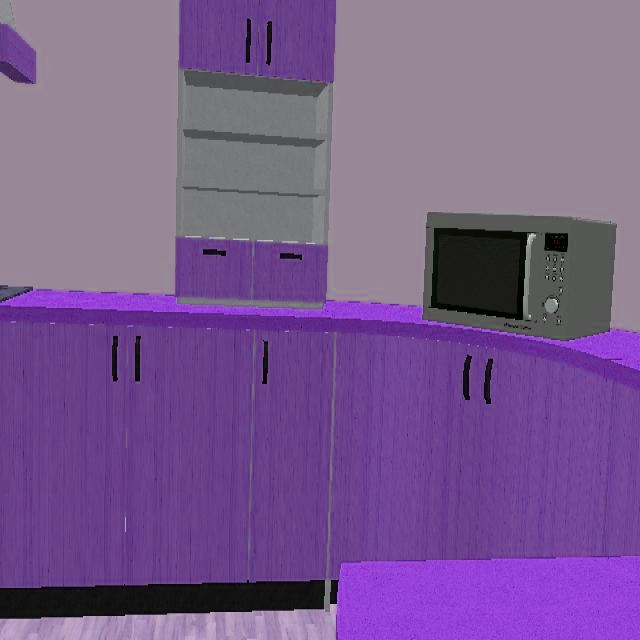cabinet: (0, 309, 640, 591), (178, 0, 337, 83), (176, 237, 329, 305)
microwave: (423, 213, 616, 340)
shelf: (178, 68, 333, 247)
table: (336, 556, 640, 640), (0, 291, 479, 339), (536, 325, 640, 373)
